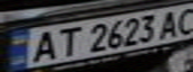2: (84, 20, 109, 53), (121, 15, 145, 47)
3: (136, 11, 163, 43)
6: (106, 17, 127, 51)
A: (24, 28, 63, 63), (157, 8, 184, 39)
C: (172, 4, 193, 36)
T: (48, 25, 84, 58)
